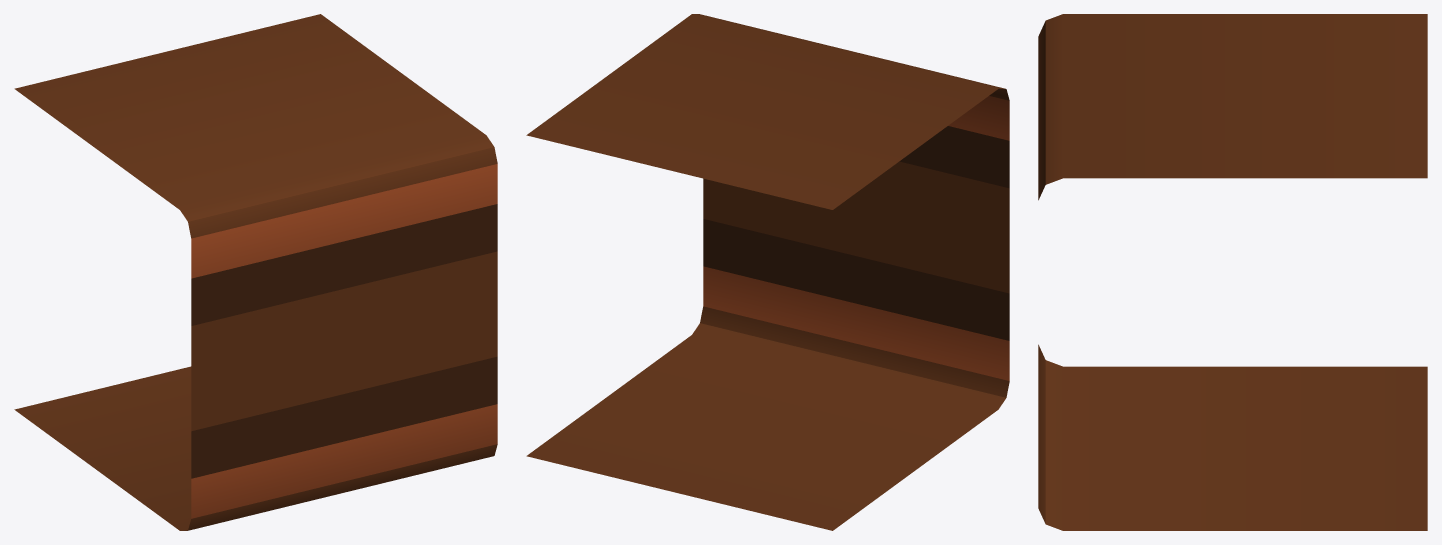
Rendered from Cube_Dirt_Side.fbx.
The picture shows the model from 3 angles, left to right: view 1: azimuth 30°, elevation 25°; view 2: azimuth 150°, elevation 25°; view 3: azimuth 270°, elevation 25°; orthographic projection. The views are drawn at different scales.
Visible parts, largest first — view 1: Cube_Dirt_Side; view 2: Cube_Dirt_Side; view 3: Cube_Dirt_Side.
Part boxes in pixels (bbox=[...]): Cube_Dirt_Side: bbox=[14, 14, 497, 530]; Cube_Dirt_Side: bbox=[526, 14, 1009, 530]; Cube_Dirt_Side: bbox=[1038, 14, 1427, 530].
Size of the model in its own units: 200 by 200 by 200.
